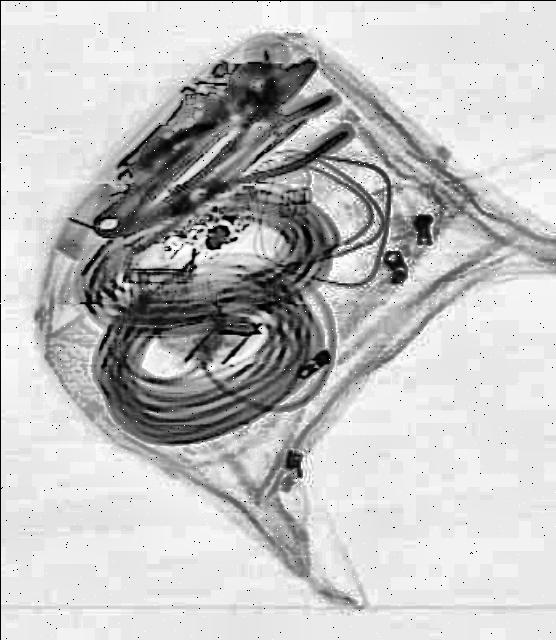Pliers: (140, 38, 334, 210), (182, 94, 356, 220)
Wrench: (81, 46, 295, 256)
